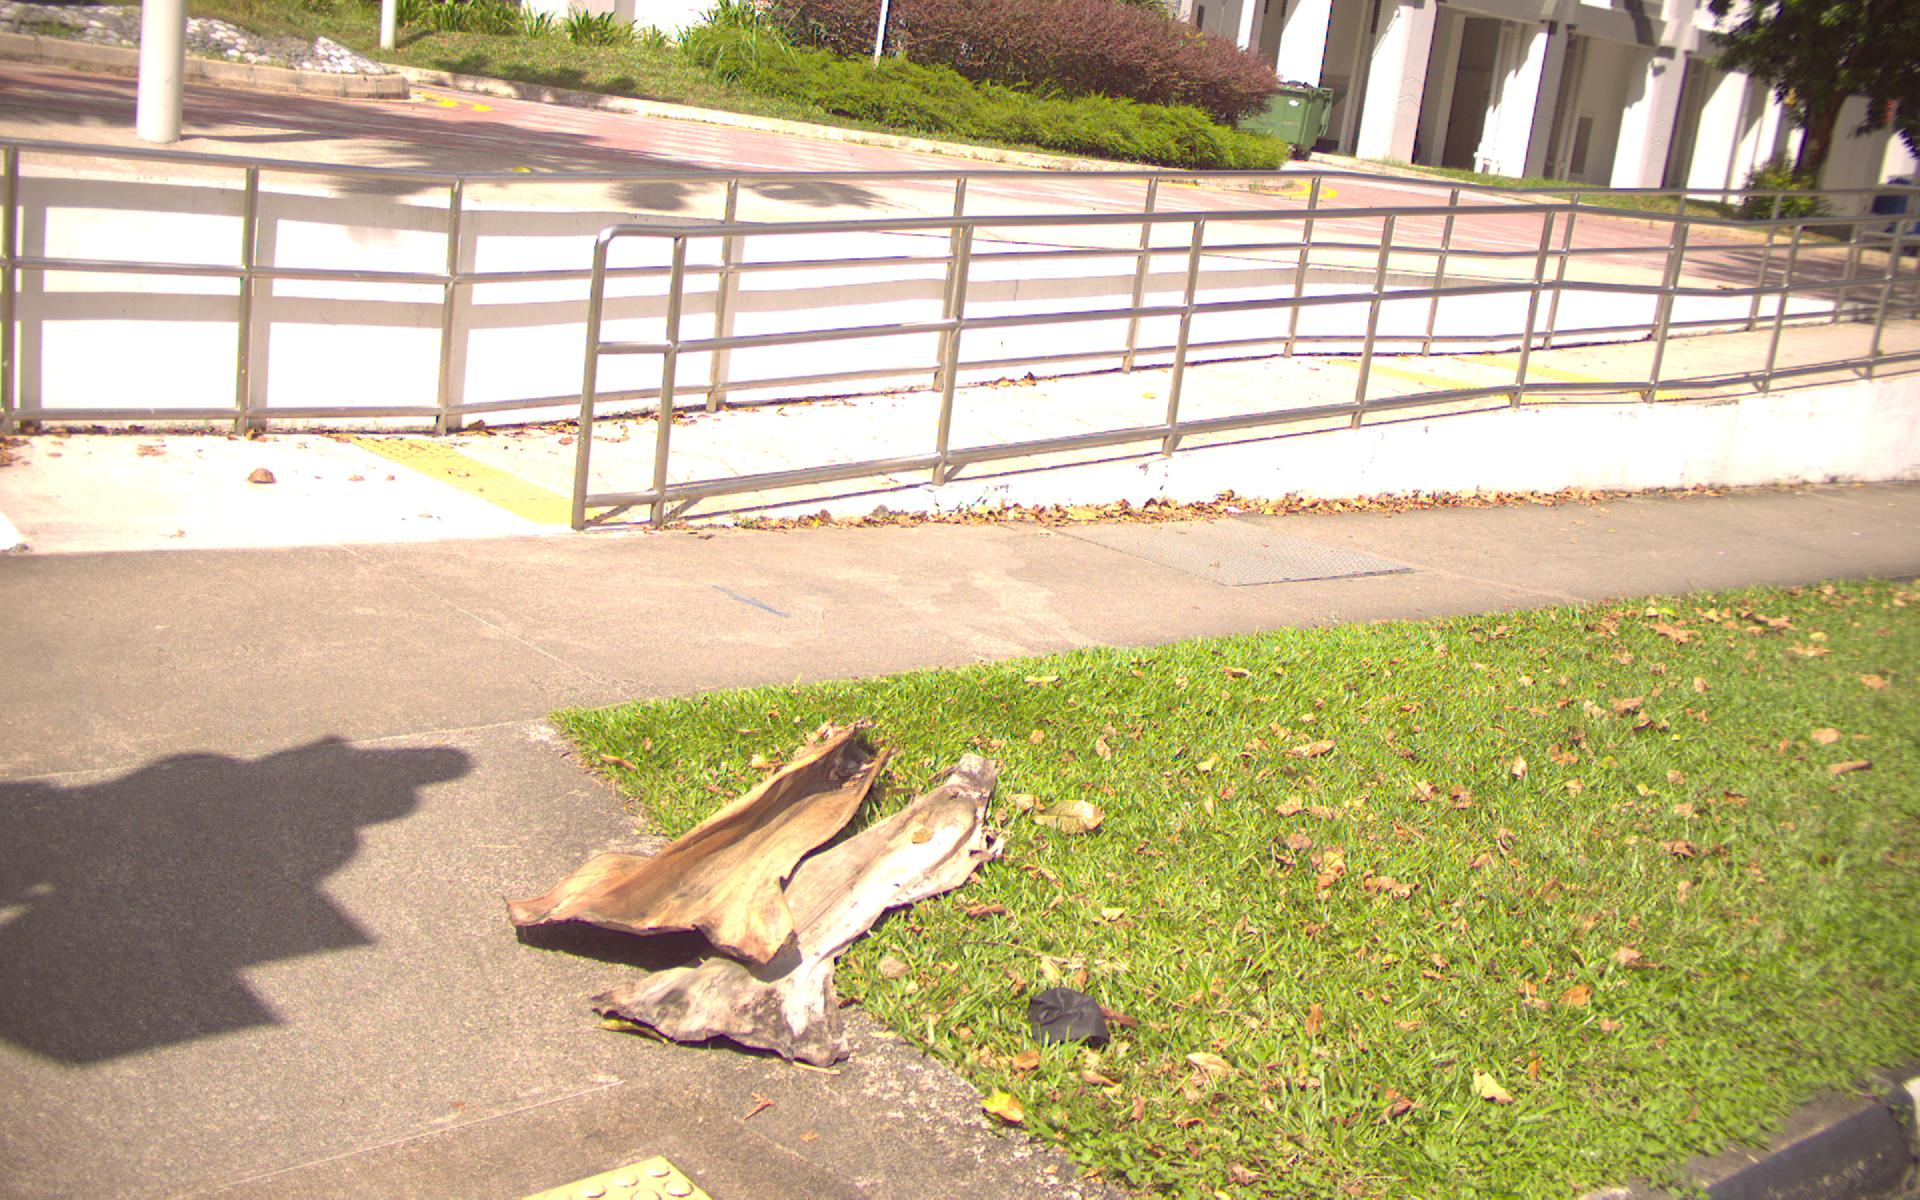pathway_low: (581, 529, 1247, 632)
road_turf_low: (1069, 655, 1920, 1058)
